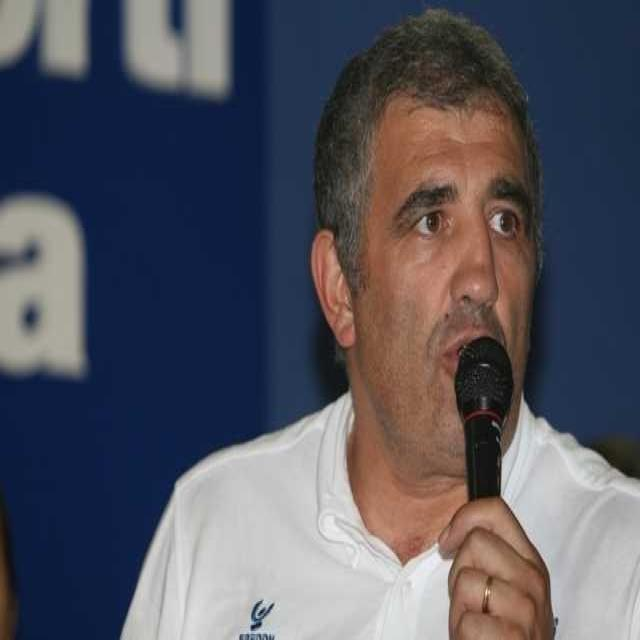microphone: (453, 334, 515, 512)
